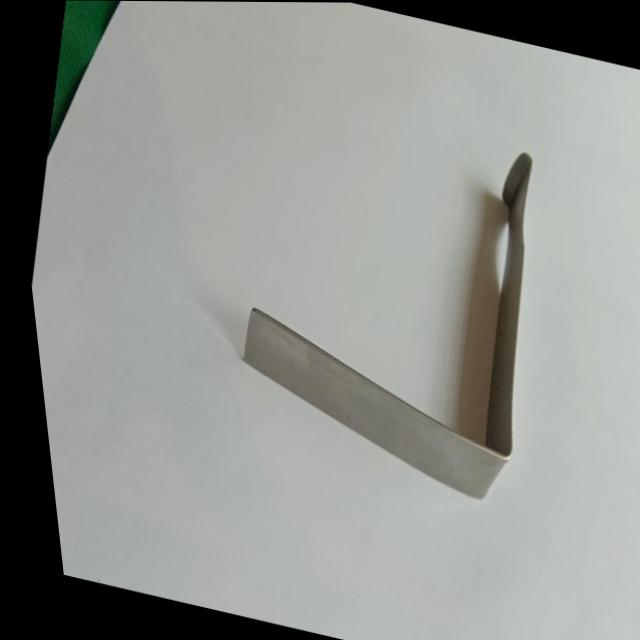AustinRetractor: (181, 77, 585, 521)
